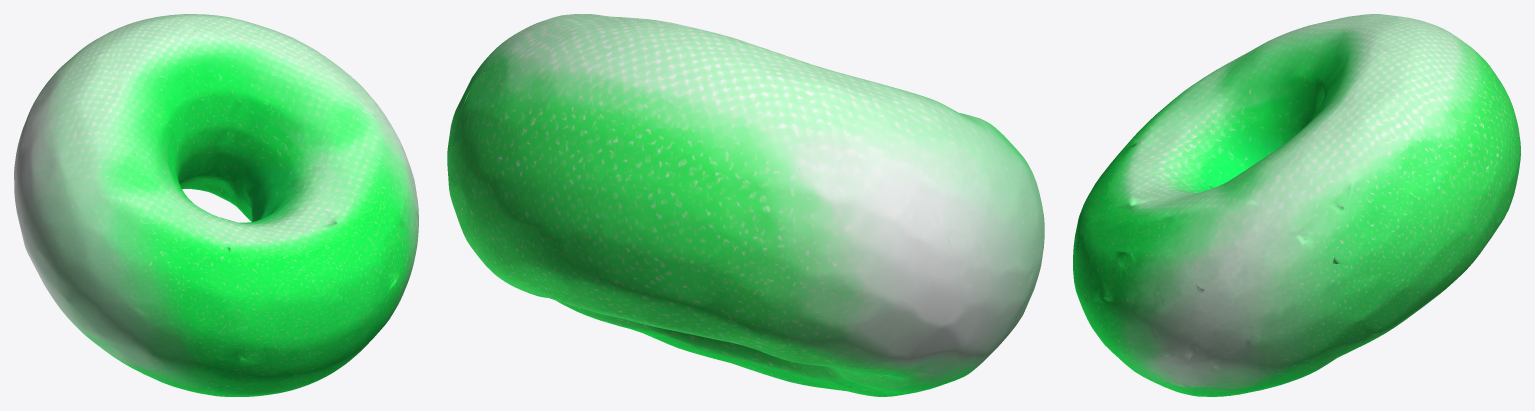
The picture shows the model from 3 angles, left to right: view 1: azimuth 30°, elevation 25°; view 2: azimuth 150°, elevation 25°; view 3: azimuth 270°, elevation 25°; orthographic projection. The views are drawn at different scales.
Visible parts, largest first — view 1: Meshy_AI_glow_donut_10k_0731083930_texture; view 2: Meshy_AI_glow_donut_10k_0731083930_texture; view 3: Meshy_AI_glow_donut_10k_0731083930_texture.
Part boxes in pixels (bbox=[...]): Meshy_AI_glow_donut_10k_0731083930_texture: bbox=[14, 14, 418, 396]; Meshy_AI_glow_donut_10k_0731083930_texture: bbox=[447, 14, 1044, 396]; Meshy_AI_glow_donut_10k_0731083930_texture: bbox=[1073, 14, 1520, 396].
Size of the model in its own units: 2 by 1.59 by 1.96.
1 material, 1 textured.
